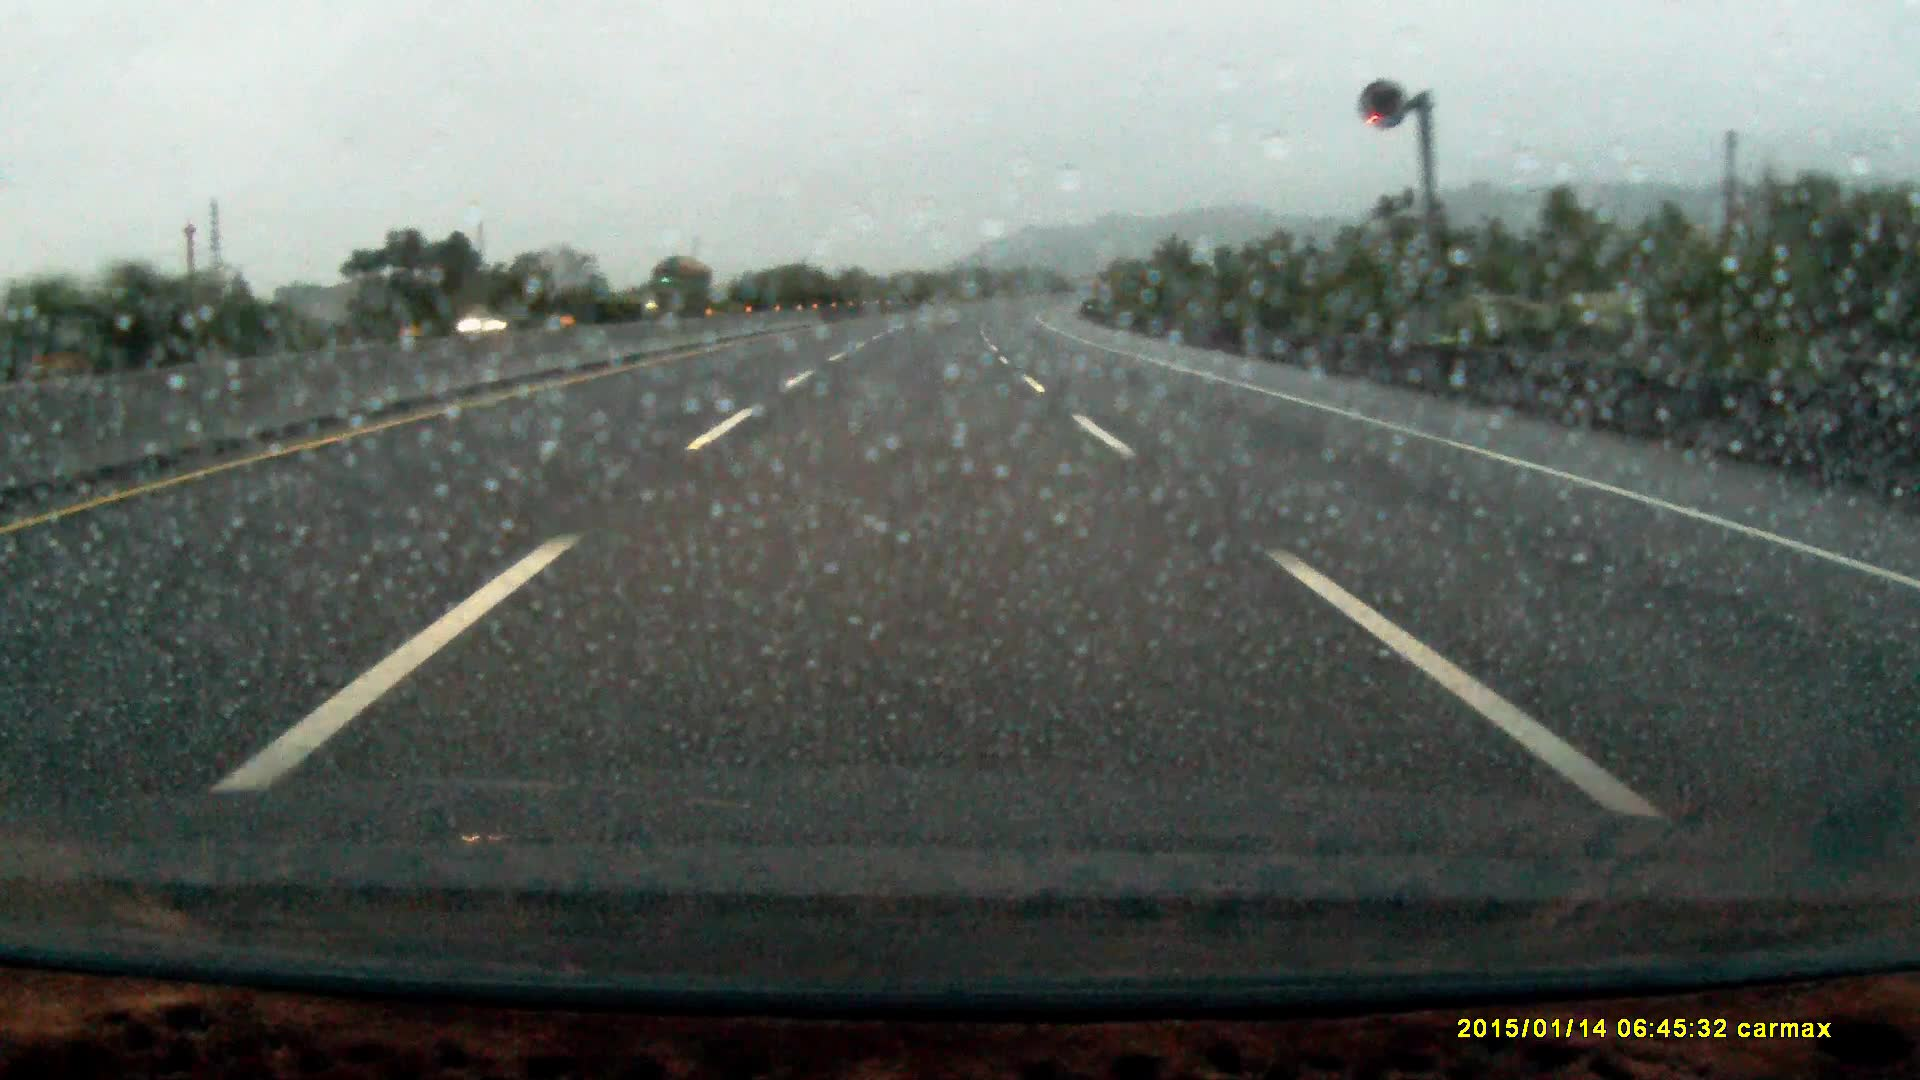vehicle: (644, 260, 717, 319), (459, 302, 541, 332)
